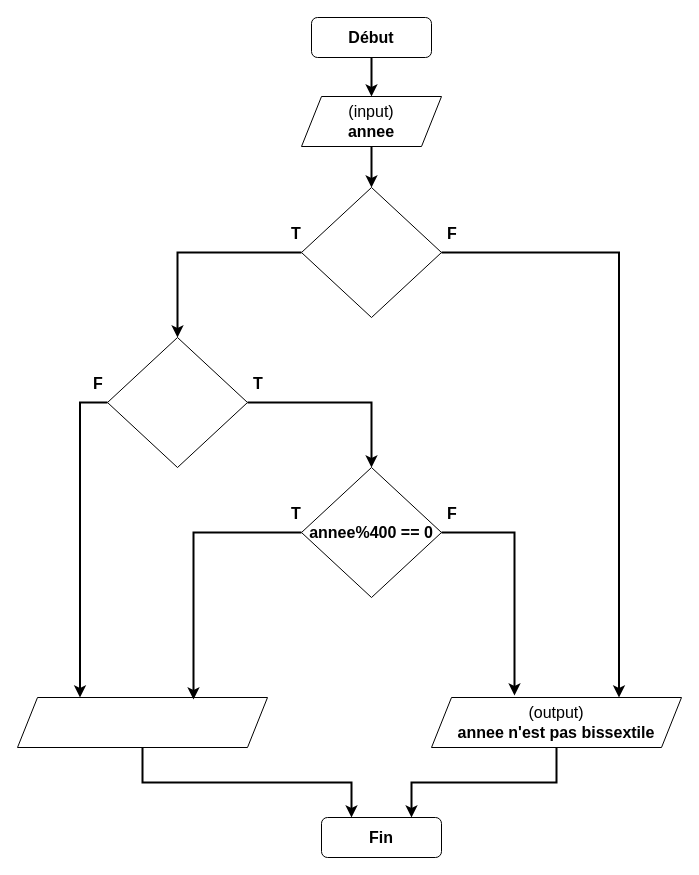
This 699x875 diagram has some shape labels left out. The shapes that lost their labels are listed below. From the top down, each one's centre as x and y in pixels, then its label:
At (x=371, y=252): "annee%4 == 0".
At (x=177, y=402): "annee%100 == 0".
At (x=142, y=722): "(output) annee est bissextile".
